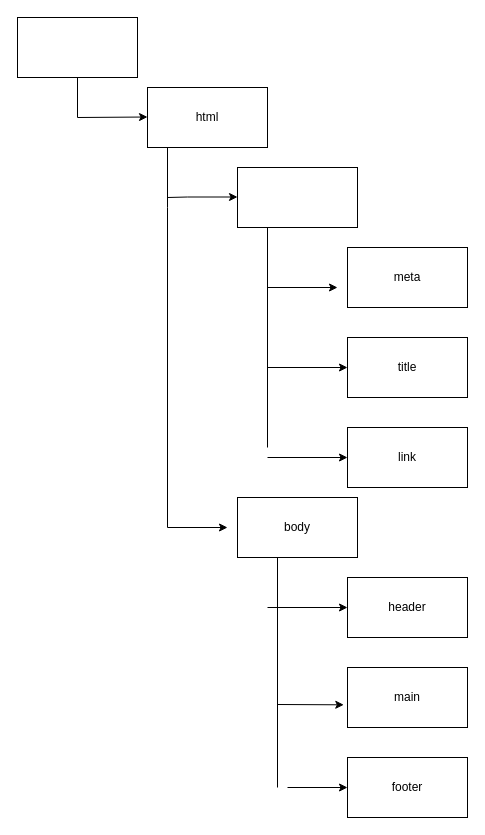
Image size: 485x835. Some labels were removed from this diagram. The shapes that lost their labels are listed below. From the top down, each one's box as (x1, y1, x2, y2) in pixels, then its label:
(16, 16, 138, 78): document
(236, 166, 358, 228): head
